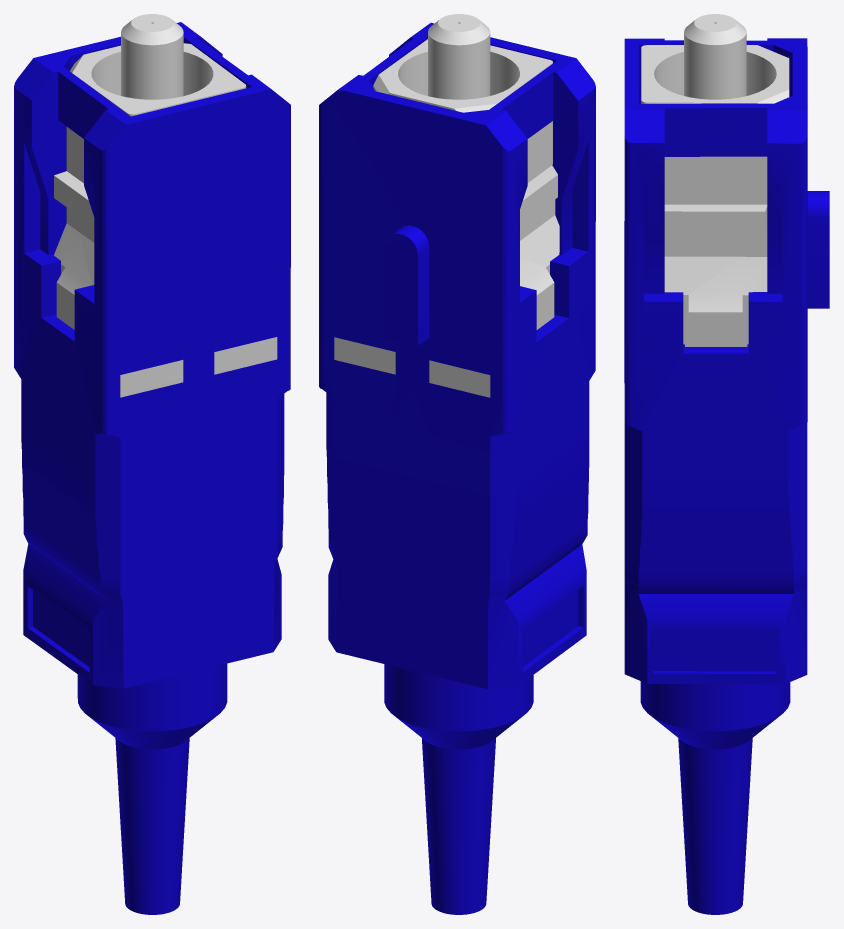
File: SC Connector_LP.fbx
3 renders of one model, left to right at view 1: azimuth 30°, elevation 25°; view 2: azimuth 150°, elevation 25°; view 3: azimuth 270°, elevation 25°, orthographic.
Visible parts, largest first — view 1: SC_Connector_LP; view 2: SC_Connector_LP; view 3: SC_Connector_LP.
Boxes of the visible parts, x1=… form: SC_Connector_LP: x1=14, y1=14, x2=290, y2=914; SC_Connector_LP: x1=319, y1=14, x2=595, y2=914; SC_Connector_LP: x1=624, y1=14, x2=829, y2=914.
Size of the model in its own units: 0.4299 by 1.89 by 0.4003.
